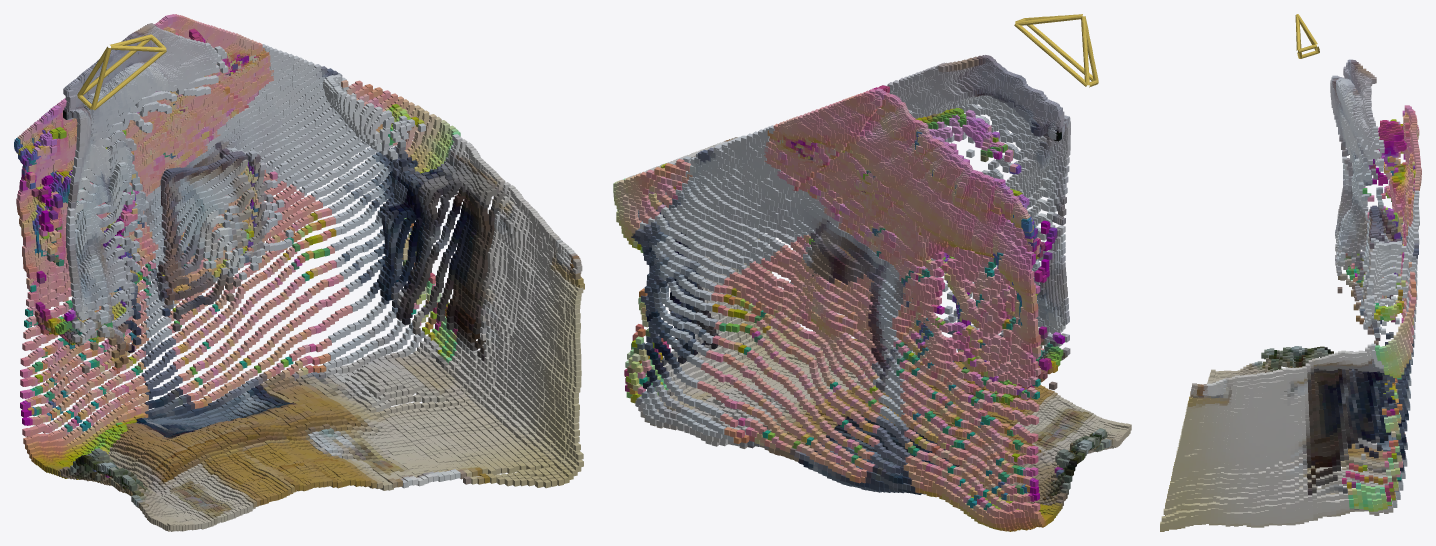
File: pred_2-compressed.glb
3 views of the same model, side by side, from view 1: azimuth 30°, elevation 25°; view 2: azimuth 150°, elevation 25°; view 3: azimuth 270°, elevation 25° (orthographic). The views are drawn at different scales.
Size of the model in its own units: 4.24 by 4.37 by 2.78.
